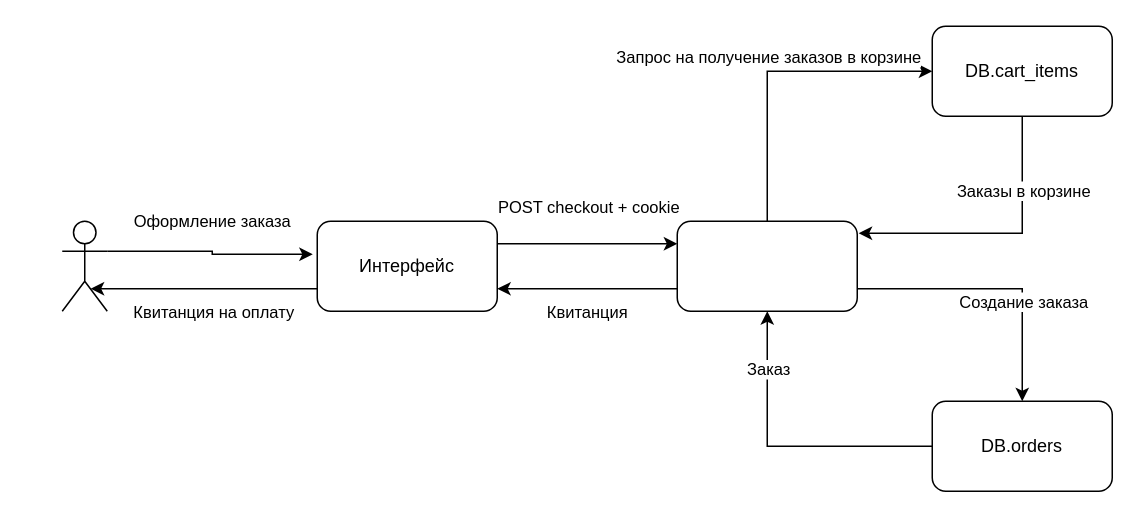
This 1139x518 diagram has some shape labels left out. Each missing label, with the box of its shape:
CGI: (676, 220, 857, 311)
Пользователь: (61, 220, 107, 311)
